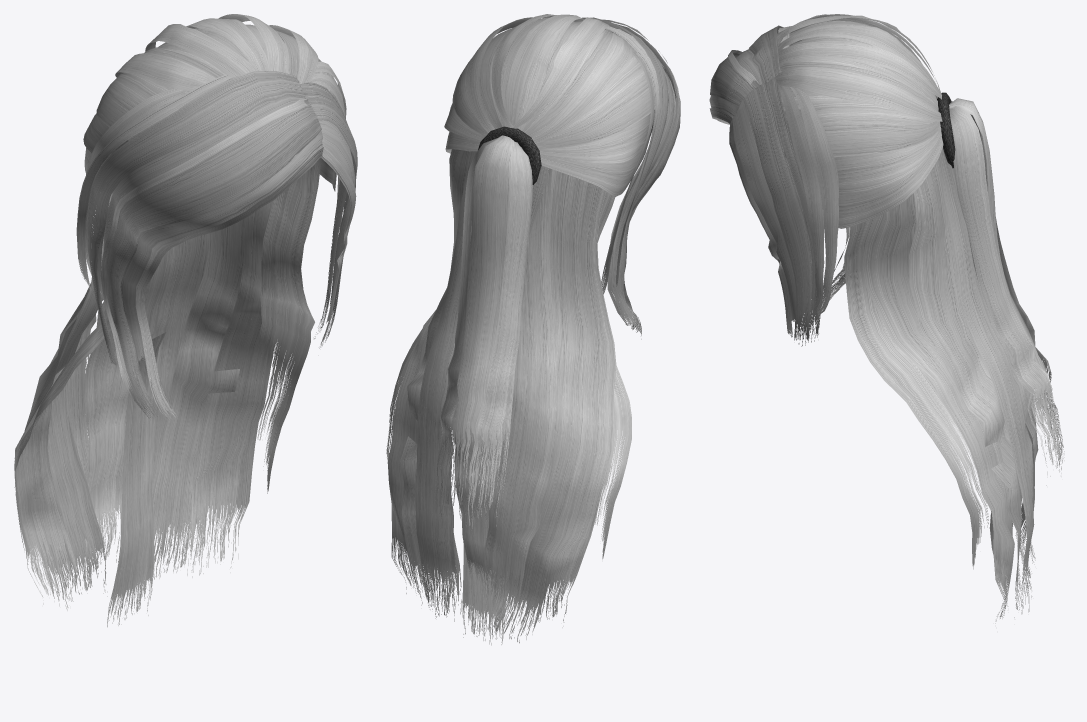
The model's file is hair_keylth_f_light.glb.
3 renders of one model, left to right at view 1: azimuth 30°, elevation 25°; view 2: azimuth 150°, elevation 25°; view 3: azimuth 270°, elevation 25°, orthographic. The views are drawn at different scales.
Parts seen in each view (by area): view 1: haircards; view 2: haircards; view 3: haircards.
Boxes of the visible parts, x1=… form: haircards: x1=14, y1=14, x2=357, y2=627; haircards: x1=386, y1=14, x2=680, y2=645; haircards: x1=709, y1=14, x2=1064, y2=623.
Size of the model in its own units: 0.2287 by 0.5734 by 0.2889.
Materials: 1 (1 with a texture image).
